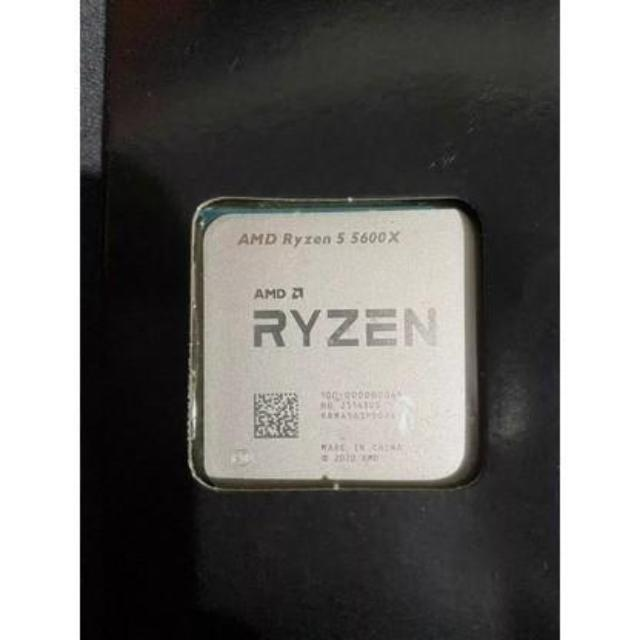CPU: (193, 210, 484, 487)
